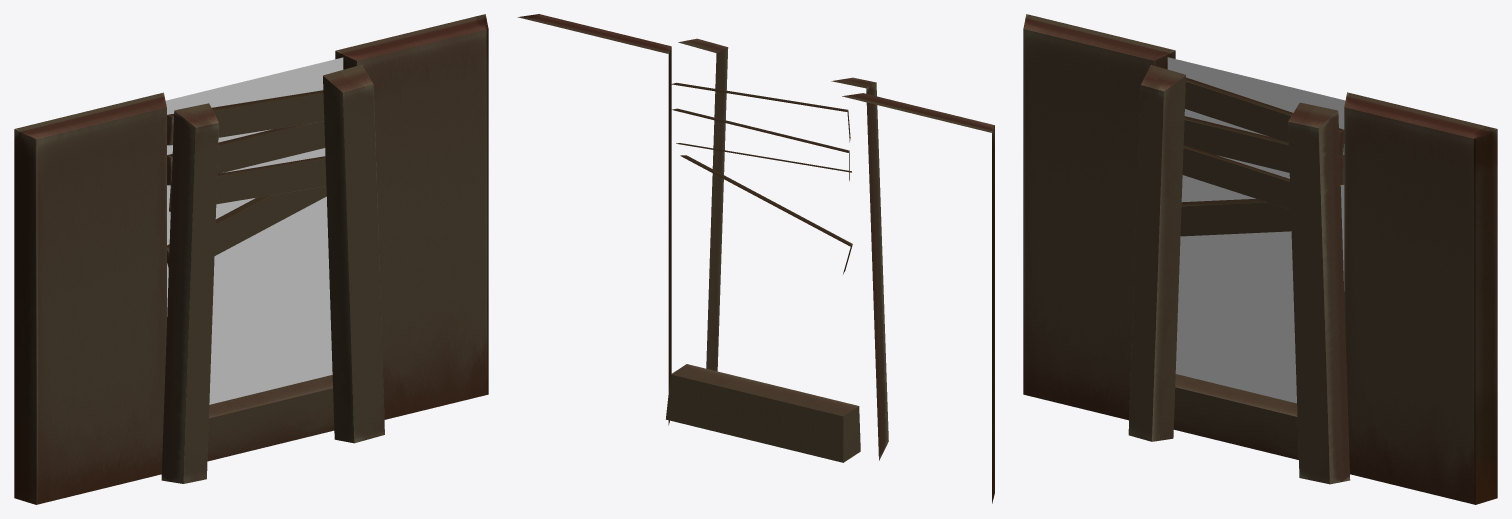
The model's file is stg2_exit.gltf.
The picture shows the model from 3 angles, left to right: view 1: azimuth 30°, elevation 25°; view 2: azimuth 150°, elevation 25°; view 3: azimuth 330°, elevation 25°; orthographic projection.
Parts seen in each view (by area): view 1: stg2_exit_GEO:PIV; view 2: stg2_exit_GEO:PIV; view 3: stg2_exit_GEO:PIV.
Boxes of the visible parts, left/top/right/bottom form: stg2_exit_GEO:PIV: left=14, top=14, right=488, bottom=504; stg2_exit_GEO:PIV: left=517, top=14, right=994, bottom=503; stg2_exit_GEO:PIV: left=1023, top=14, right=1497, bottom=504.
Size of the model in its own units: 3234 by 2438 by 409.
2 materials, 1 textured.
